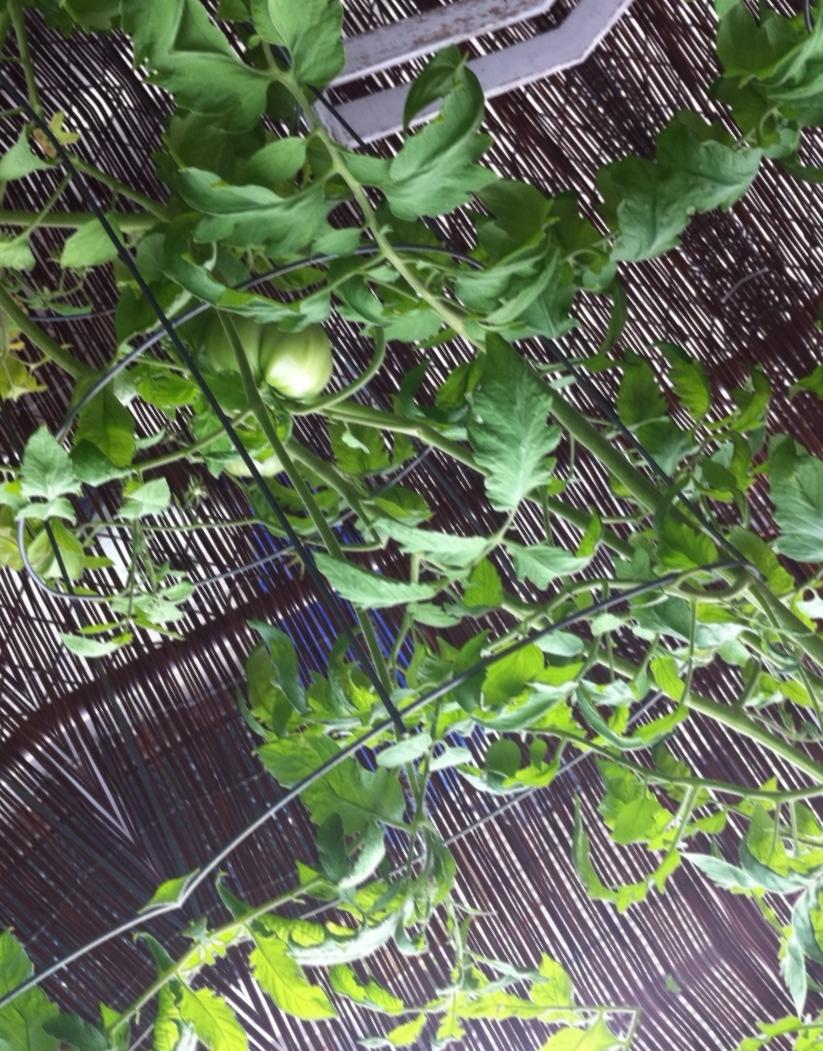Tomato leaf: (408, 334, 605, 537), (230, 689, 406, 876), (357, 75, 522, 227), (303, 492, 457, 650), (697, 395, 823, 588), (139, 19, 266, 143), (236, 0, 353, 61)
